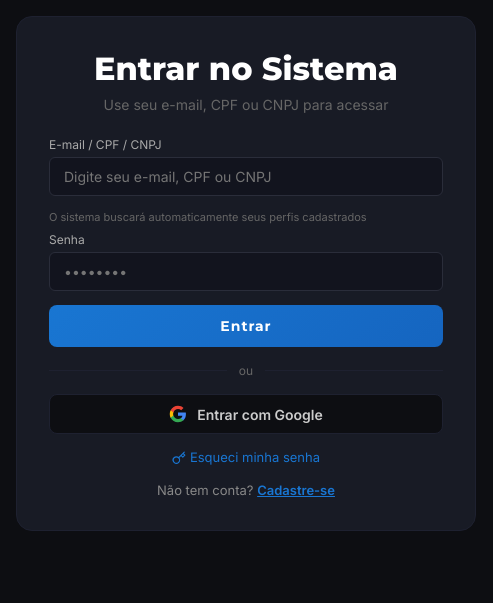
TelaLogin › exibe erro quando campos estão vazios
Click the button "Entrar". click: (246, 326)
box: top-left (49, 305), bottom-right (443, 347)
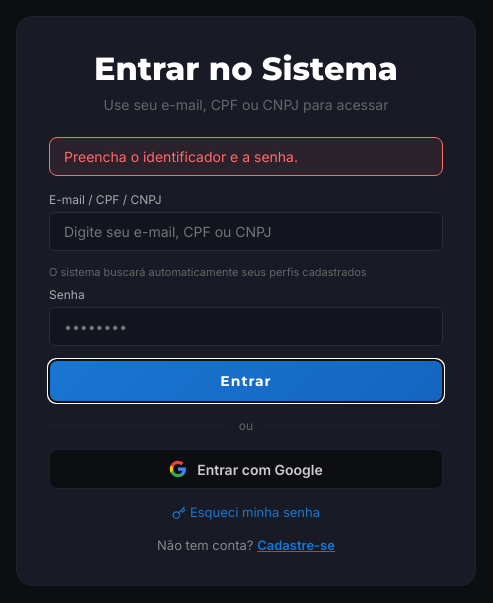
Check: the text "Preencha o identificador e a senha." is shown, box top-left (49, 137), bottom-right (443, 176)
